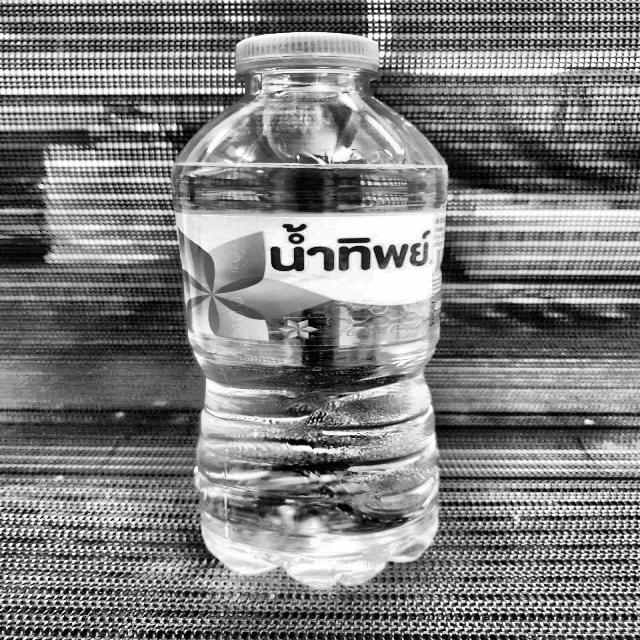waterbottle: (158, 29, 462, 603)
